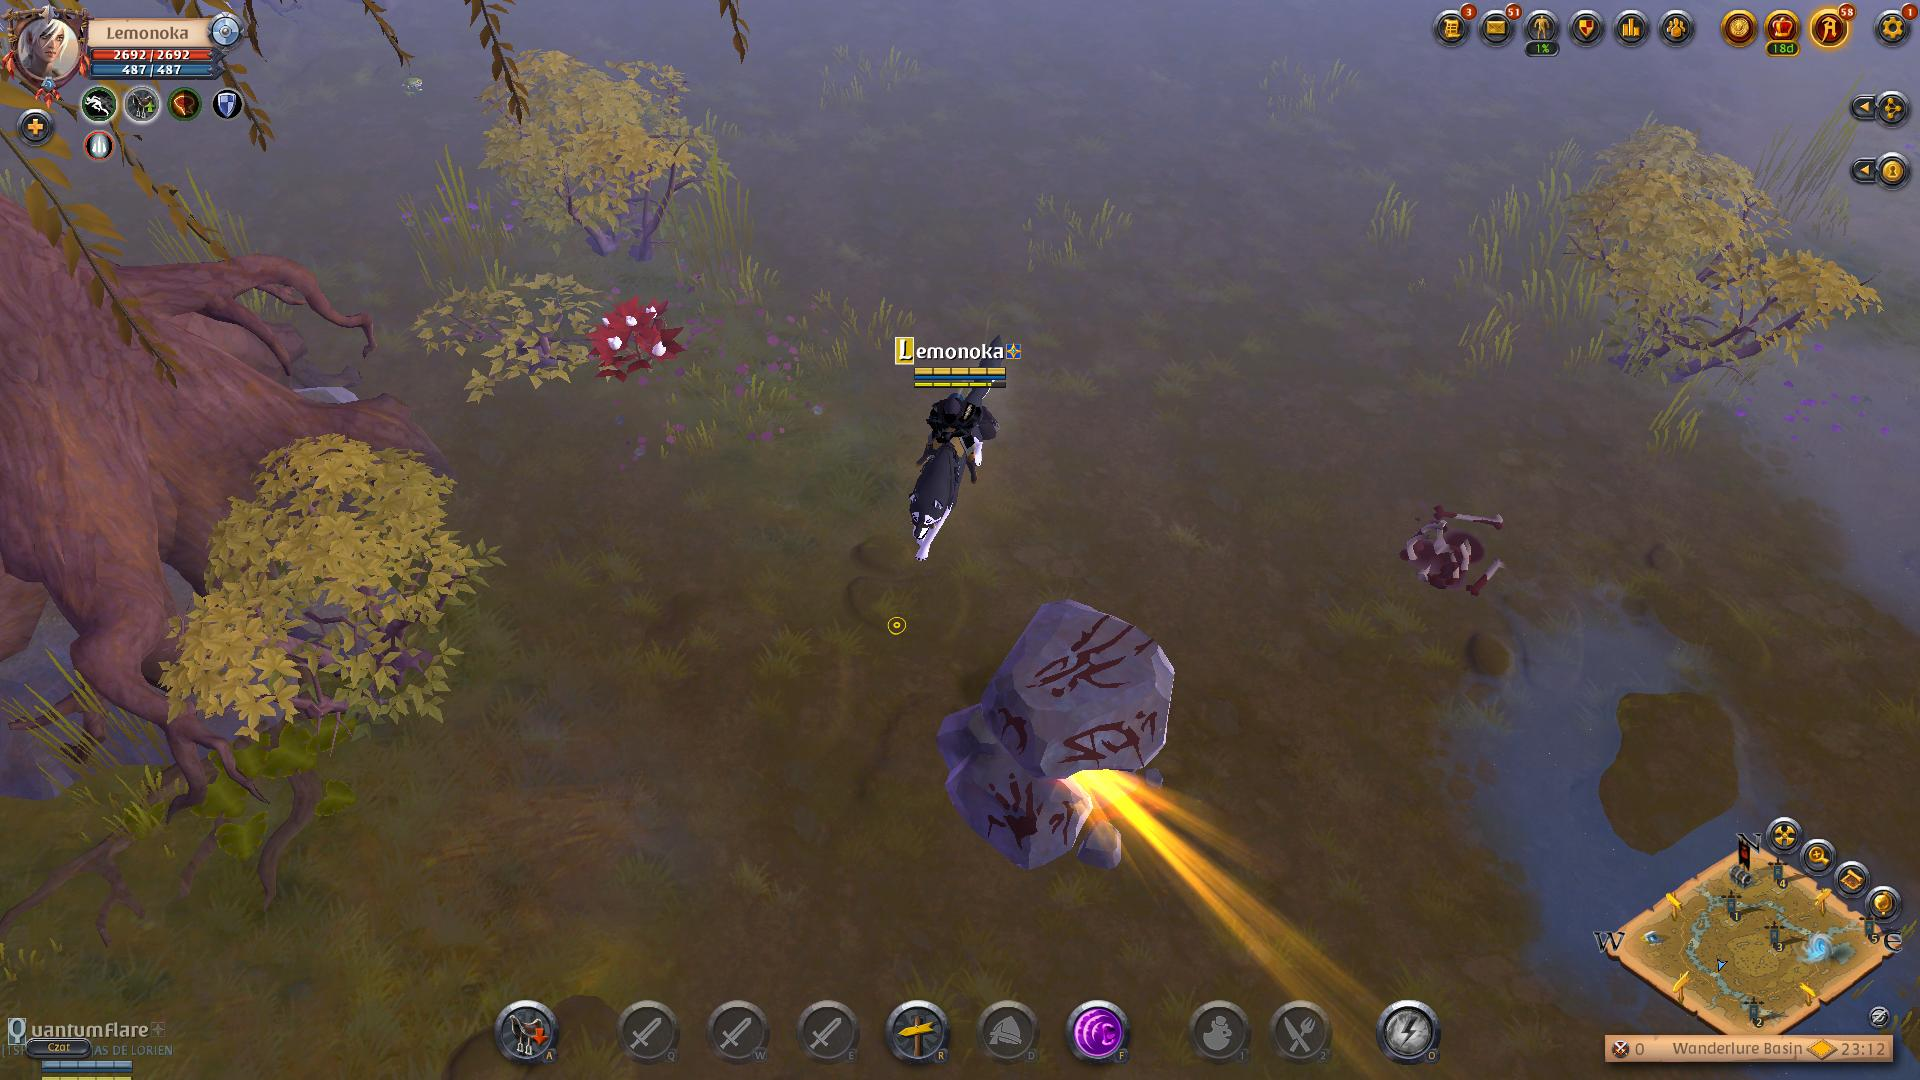fiber tier 5: (579, 295, 690, 386)
